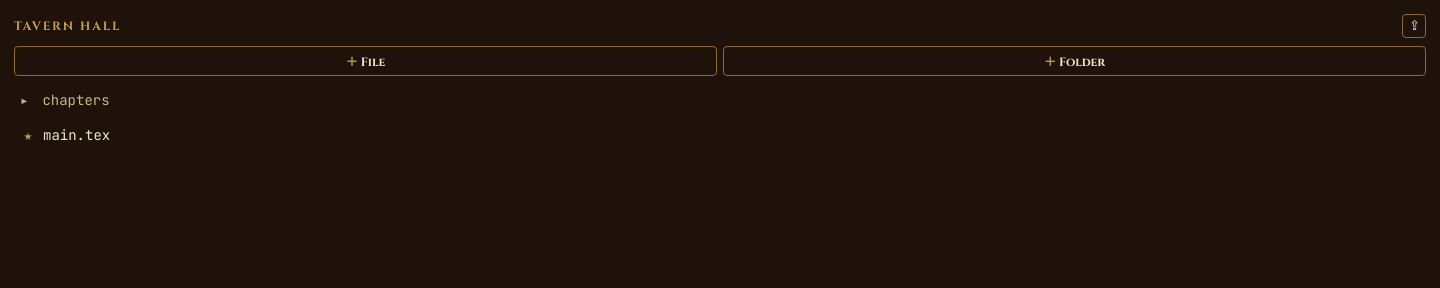
Scenario: FileTreeComponent folders › creates a folder at the top level
Click the button with aria-label "New folder".
click(1074, 61)  # box [723,46,1426,76]
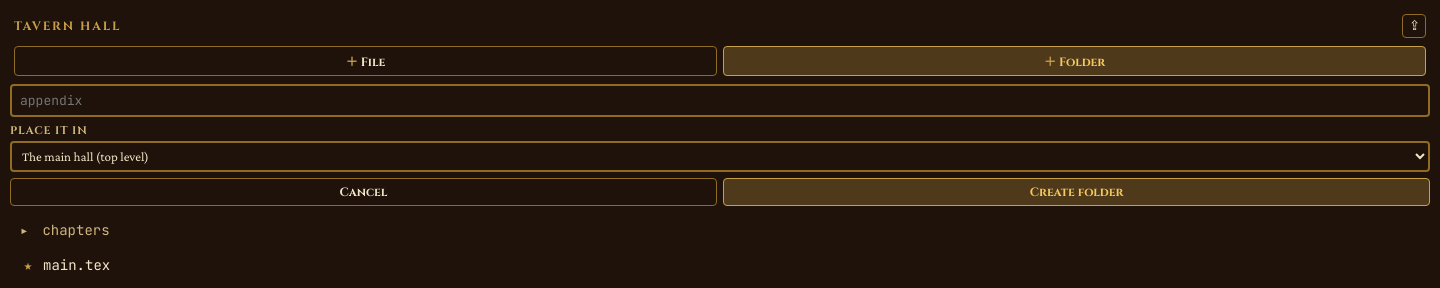
Now the form with class "folder" is shown, box [10,84,1430,206]
Type "  appendix " into the field named "folder".
click(720, 100); type("  appendix ")  # box [10,84,1430,117]
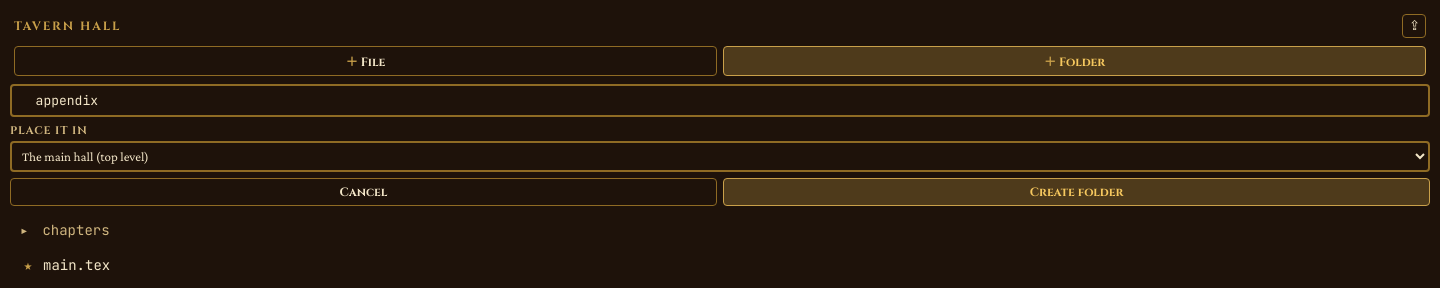
Submit the form with class "folder", box [10,84,1430,206]
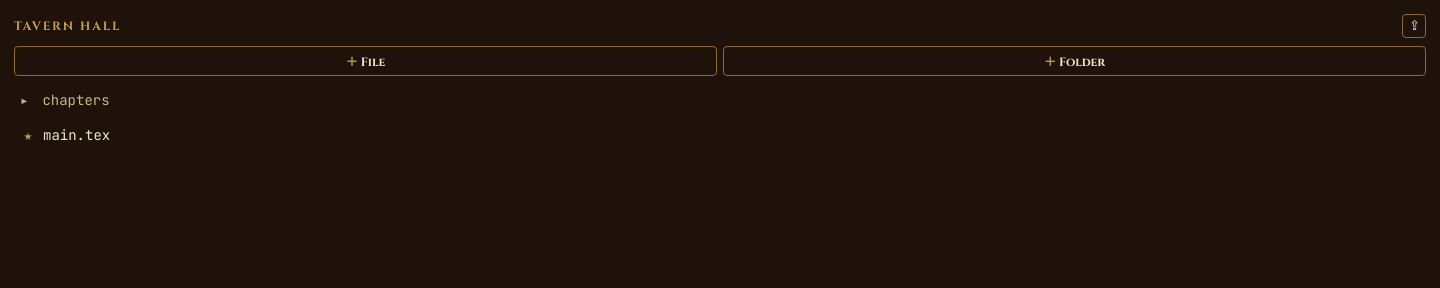
Now the field with class "folder" is gone
